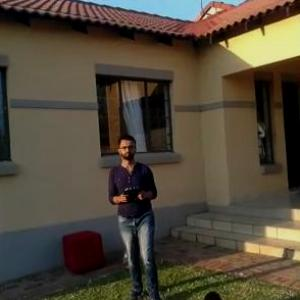follow: (105, 129, 166, 299)
